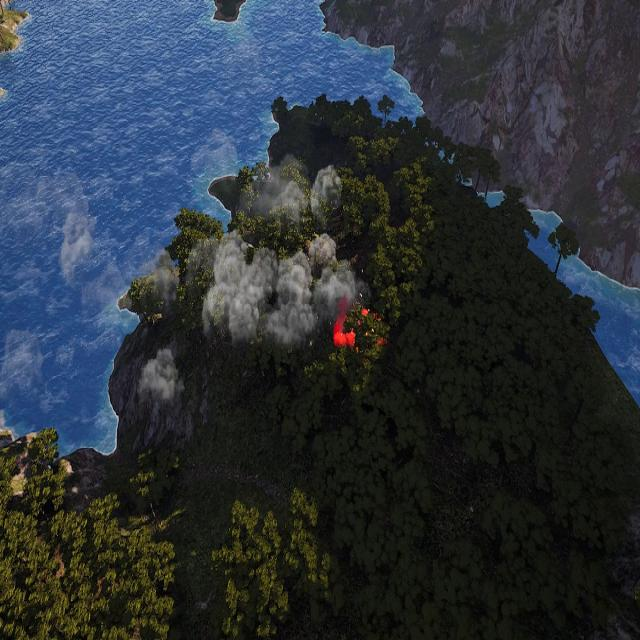smoke: (161, 158, 375, 354), (58, 184, 96, 283), (140, 344, 185, 404)
